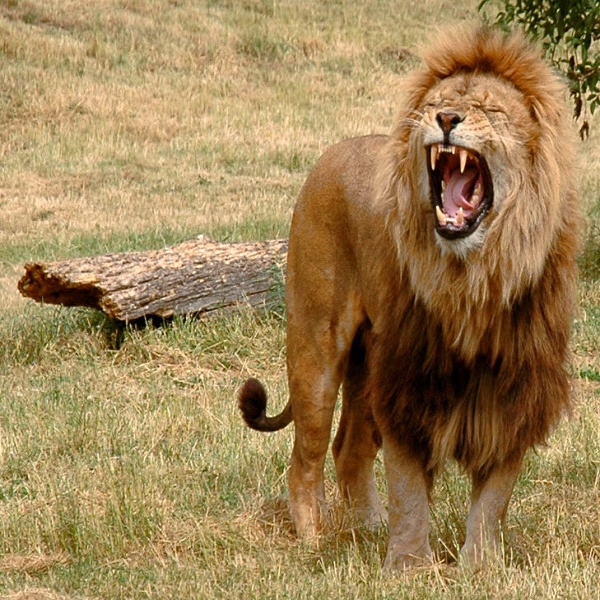Lion: (234, 15, 580, 579)
